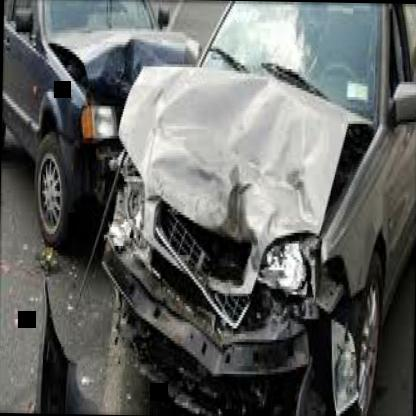accident: (17, 0, 401, 413)
